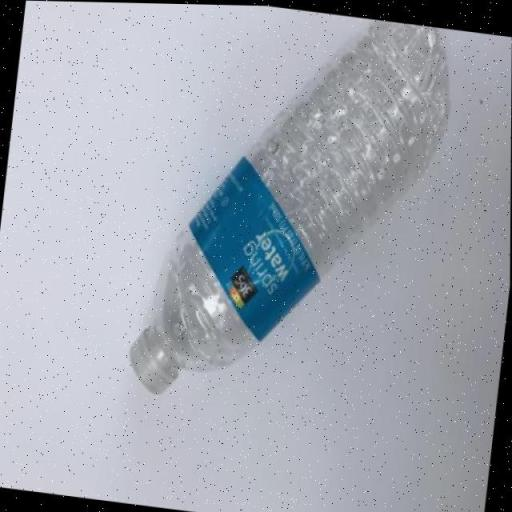plastic: (130, 21, 450, 393)
